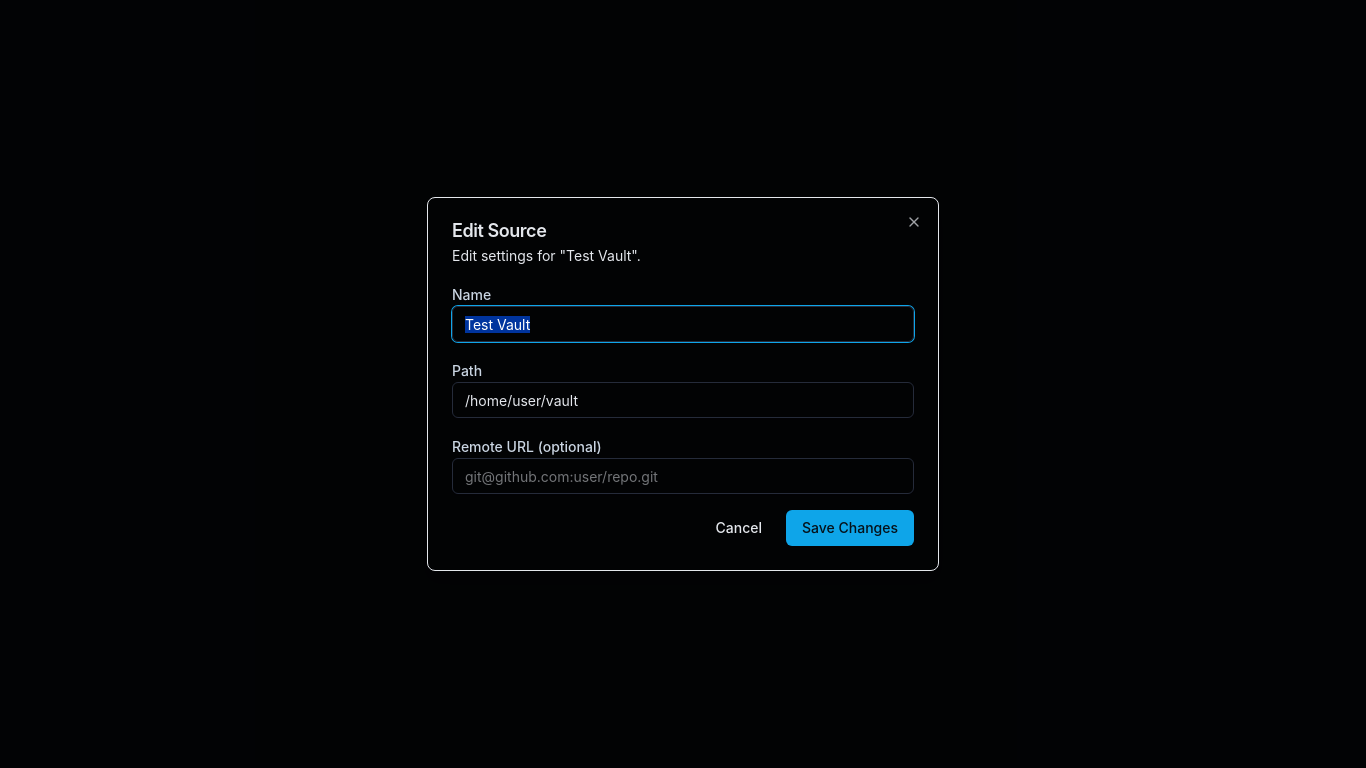
SourceEditDialog › shows OPSEC warning when setting remote_url on source without prior remote
Type "https://github.com/user/repo" into the field with placeholder "git@github.com:user/repo.git".
click(683, 476); type("https://github.com/user/repo")  # box top-left (452, 458), bottom-right (914, 494)
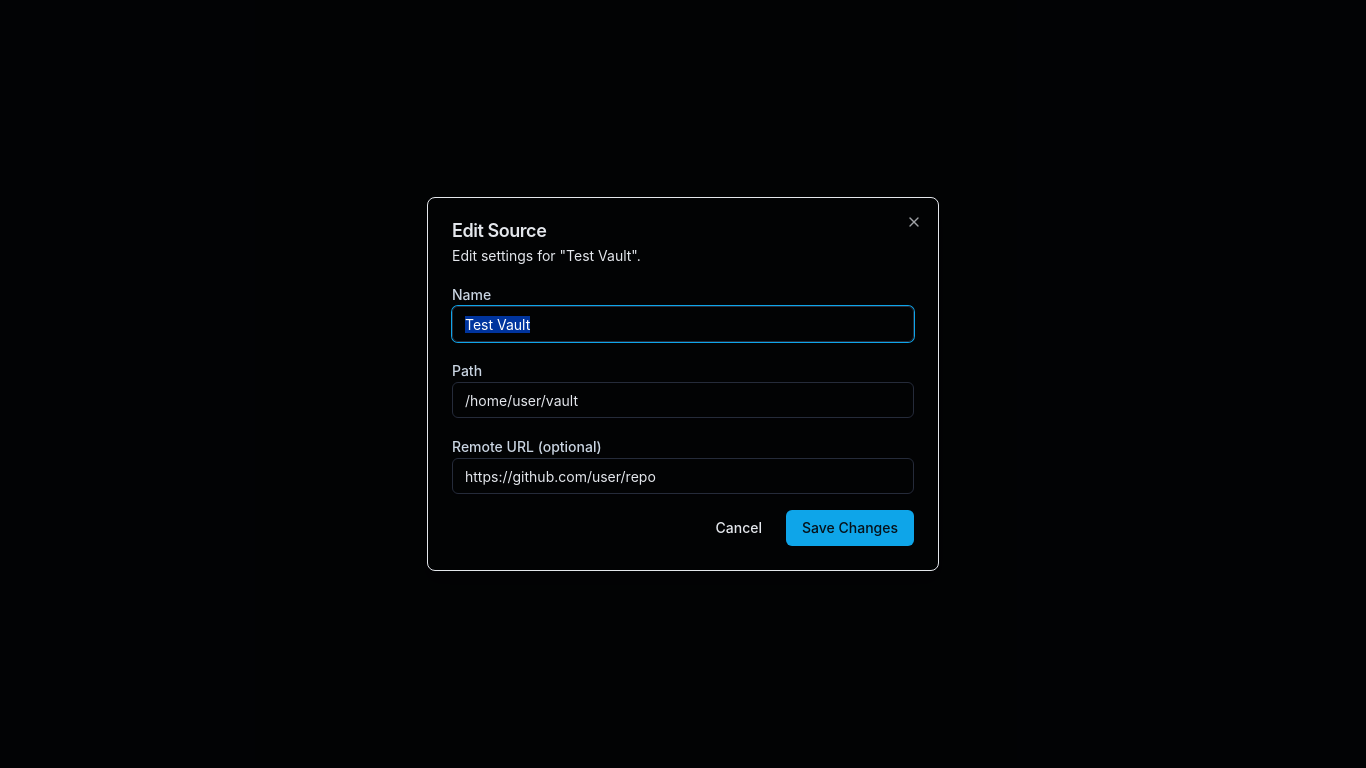
Click the button "Save Changes".
click(850, 528)  # box top-left (786, 510), bottom-right (914, 546)
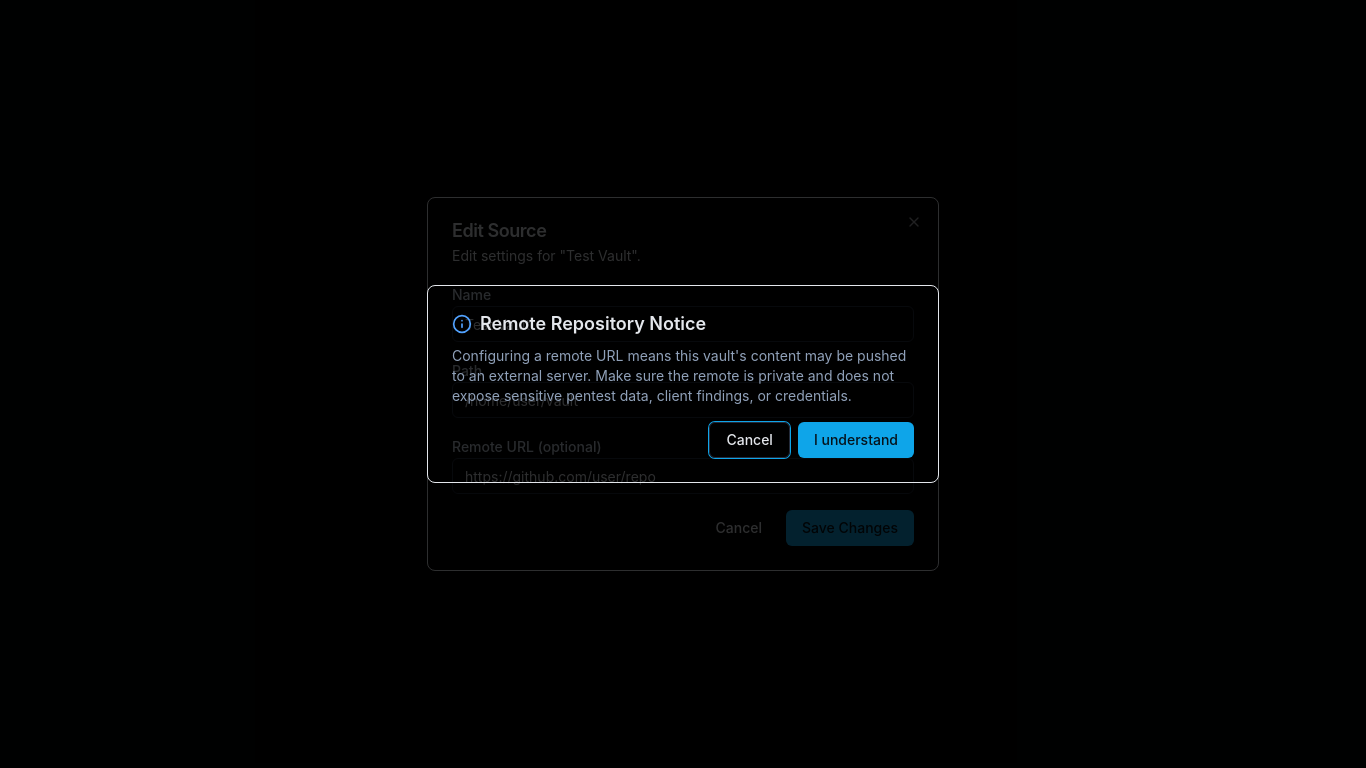
Result: the text "Remote Repository Notice" is shown at top-left (452, 313), bottom-right (706, 334)
